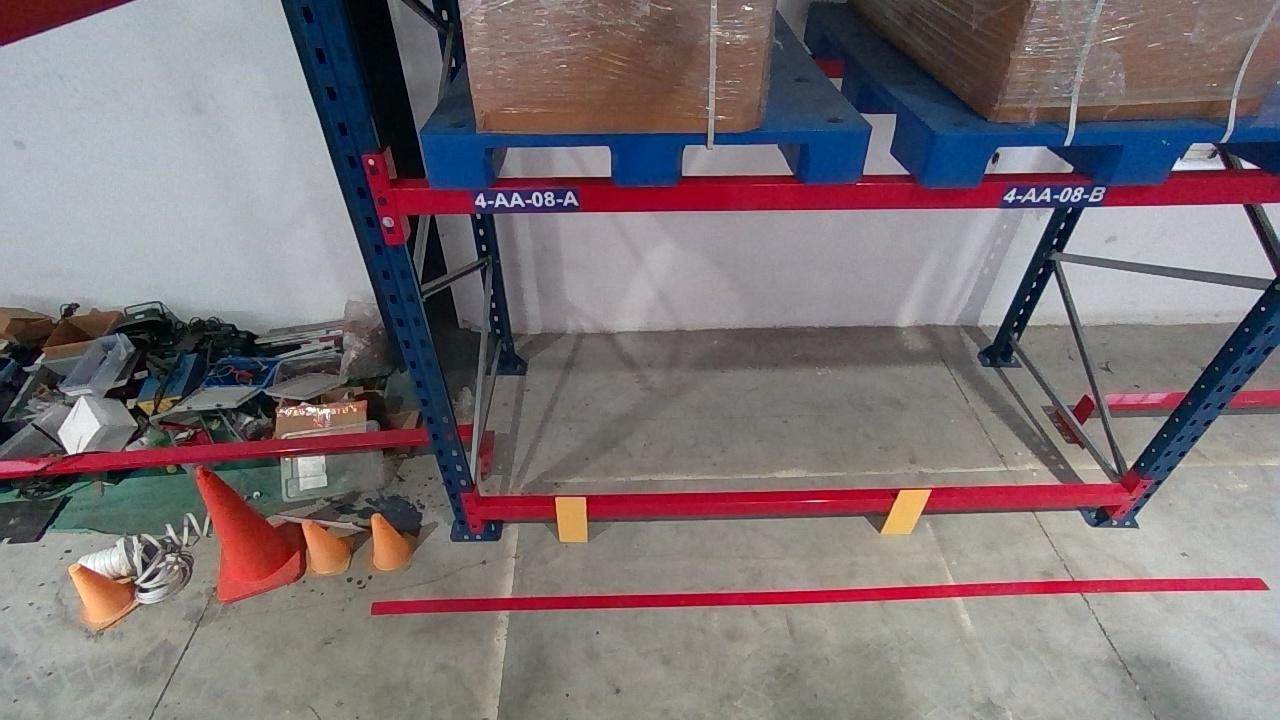h_rack: (391, 177, 1279, 211), (482, 490, 1131, 519)
orange_strip: (880, 489, 933, 534), (553, 497, 587, 541)
red_line: (367, 574, 1262, 615)
small_pallet: (420, 130, 871, 184), (925, 127, 1279, 182)
